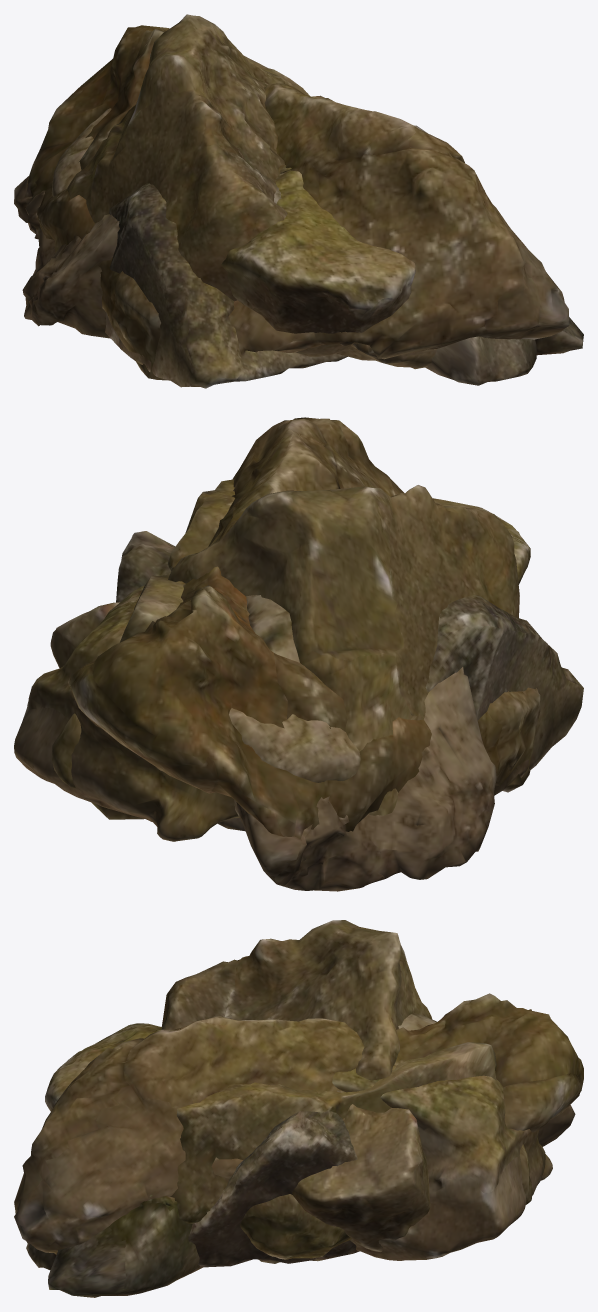
File: moss.glb
The picture shows the model from 3 angles, top to bottom: view 1: azimuth 30°, elevation 25°; view 2: azimuth 150°, elevation 25°; view 3: azimuth 270°, elevation 25°; orthographic projection. The views are drawn at different scales.
Parts seen in each view (by area): view 1: moss01, moss04, moss05, moss03, moss02, moss06; view 2: moss01, moss04, moss02, moss05, moss03, moss06; view 3: moss01, moss04, moss05, moss06, moss02, moss03.
Boxes of the visible parts, x1,y1,x2,y2 form: moss01: [25, 25, 569, 380]; moss04: [54, 14, 324, 301]; moss05: [51, 93, 415, 356]; moss03: [105, 125, 426, 388]; moss02: [14, 176, 583, 385]; moss06: [244, 56, 436, 369]; moss01: [68, 417, 540, 847]; moss04: [50, 485, 519, 815]; moss02: [234, 595, 496, 891]; moss05: [14, 498, 530, 841]; moss03: [116, 531, 583, 831]; moss06: [51, 479, 234, 819]; moss01: [14, 993, 583, 1263]; moss04: [161, 920, 431, 1251]; moss05: [45, 1023, 552, 1260]; moss06: [170, 1042, 532, 1259]; moss02: [26, 1013, 575, 1297]; moss03: [188, 1111, 359, 1267].
Size of the model in its own units: 2.66 by 1.77 by 3.36.
1 material, 1 textured.
